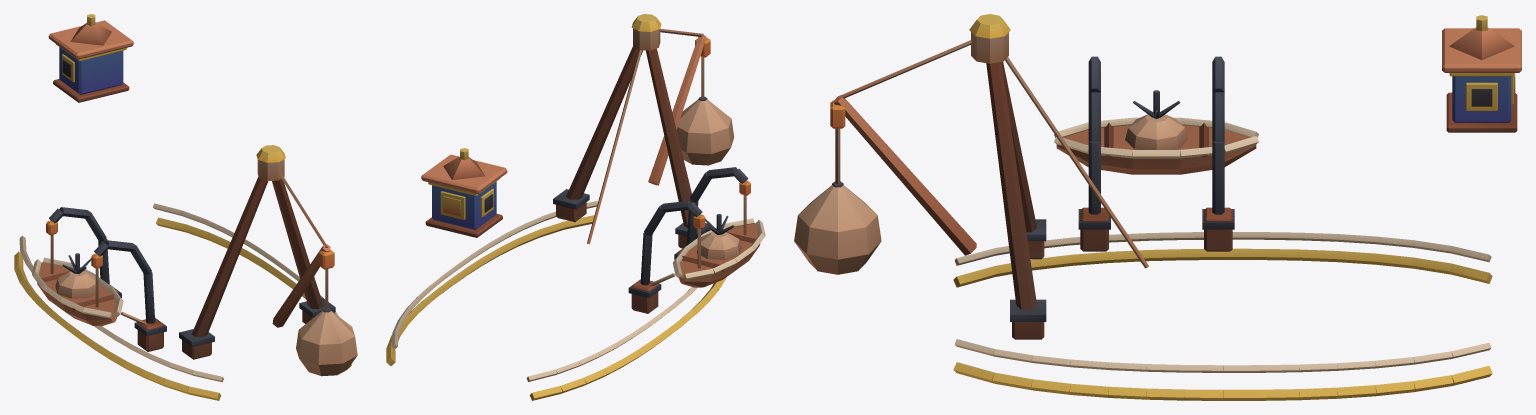
Rendered from freighter-skill.glb.
3 views of the same model, side by side, from view 1: azimuth 30°, elevation 25°; view 2: azimuth 150°, elevation 25°; view 3: azimuth 270°, elevation 25° (orthographic). The views are drawn at different scales.
Visible parts, largest first — view 1: skill; view 2: skill; view 3: skill.
Boxes of the visible parts, x1,y1,x2,y2 form: skill: (14,14,357,400); skill: (386,14,765,400); skill: (794,14,1521,400).
Bounding box in the file's own units: 4.47 × 3.62 × 7.65.
